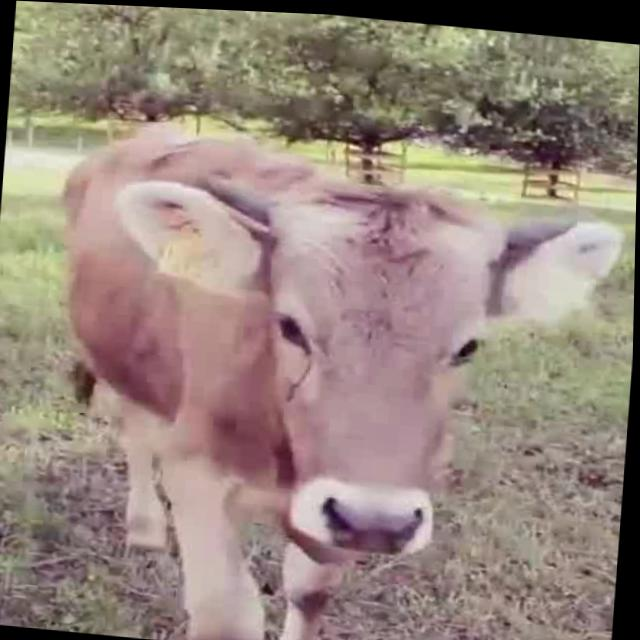cowFace: (93, 150, 631, 592)
